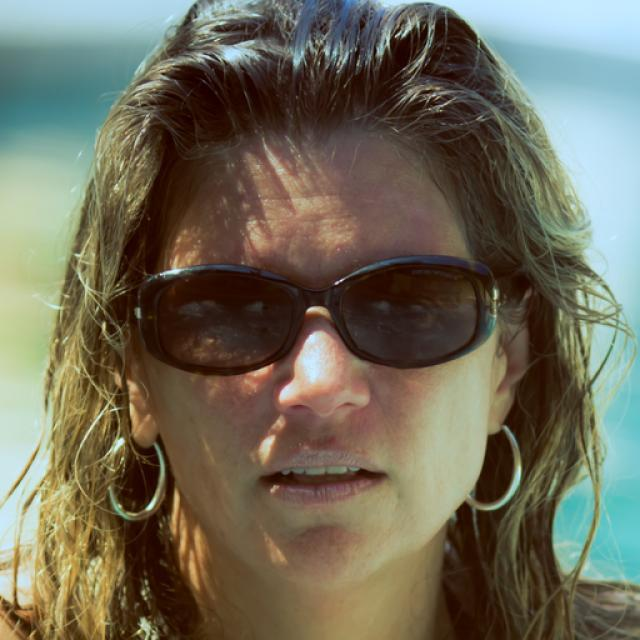neutral: (148, 123, 494, 590)
